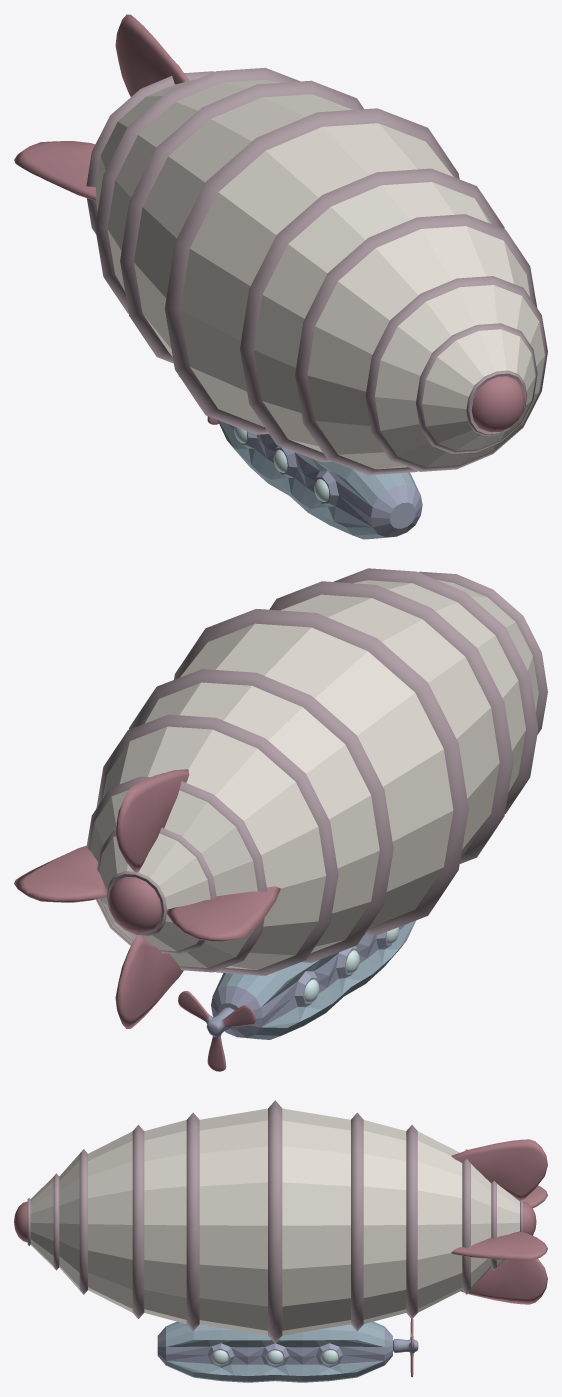
File: blimp.fbx
3 renders of one model, top to bottom at view 1: azimuth 30°, elevation 25°; view 2: azimuth 150°, elevation 25°; view 3: azimuth 270°, elevation 25°, orthographic. The views are drawn at different scales.
Visible parts, largest first — view 1: pCube23, pCube28, pCylinder4, pCylinder5, pCube30; view 2: pCube23, pCube28, pCylinder4, pCylinder5, pCylinder6, pCylinder7, pCube31, pCylinder2; view 3: pCube23, pCube28, pCylinder4, pCylinder6, pCylinder7, pCylinder2, pCube30, pCube31.
Part boxes in pixels (x1,y1,x2,y2): pCube23: (86,67,547,475); pCube28: (217,420,422,539); pCylinder4: (115,14,188,96); pCylinder5: (14,141,96,200); pCube30: (471,376,525,432); pCube23: (86,568,547,975); pCube28: (211,920,415,1039); pCylinder4: (115,769,189,872); pCylinder5: (166,886,280,941); pCylinder6: (115,935,183,1028); pCylinder7: (14,845,107,902); pCube31: (108,876,161,932); pCylinder2: (178,991,255,1071); pCube23: (27,1100,522,1343); pCube28: (157,1321,392,1382); pCylinder4: (451,1139,547,1201); pCylinder6: (460,1258,547,1304); pCylinder7: (451,1231,547,1260); pCylinder2: (393,1318,418,1377); pCube30: (14,1201,27,1242); pCube31: (523,1201,536,1235).
Size of the model in its own units: 8.78 by 10.74 by 19.52.
